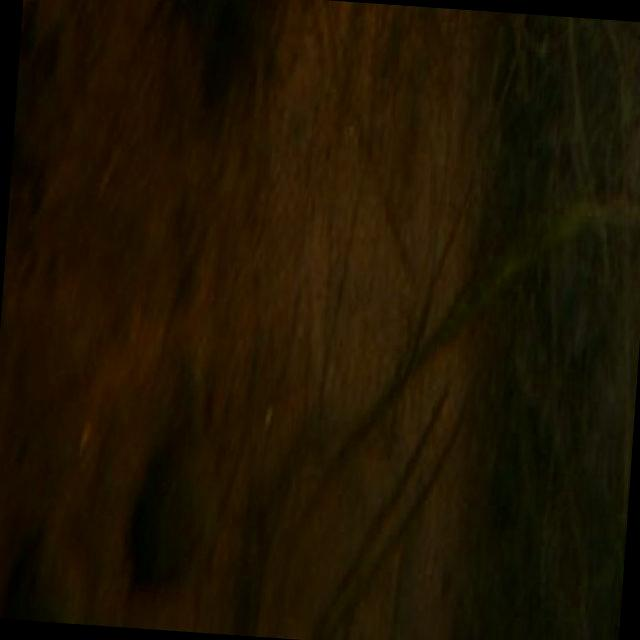Oyster-Closed: (137, 436, 215, 579), (13, 530, 79, 624)
